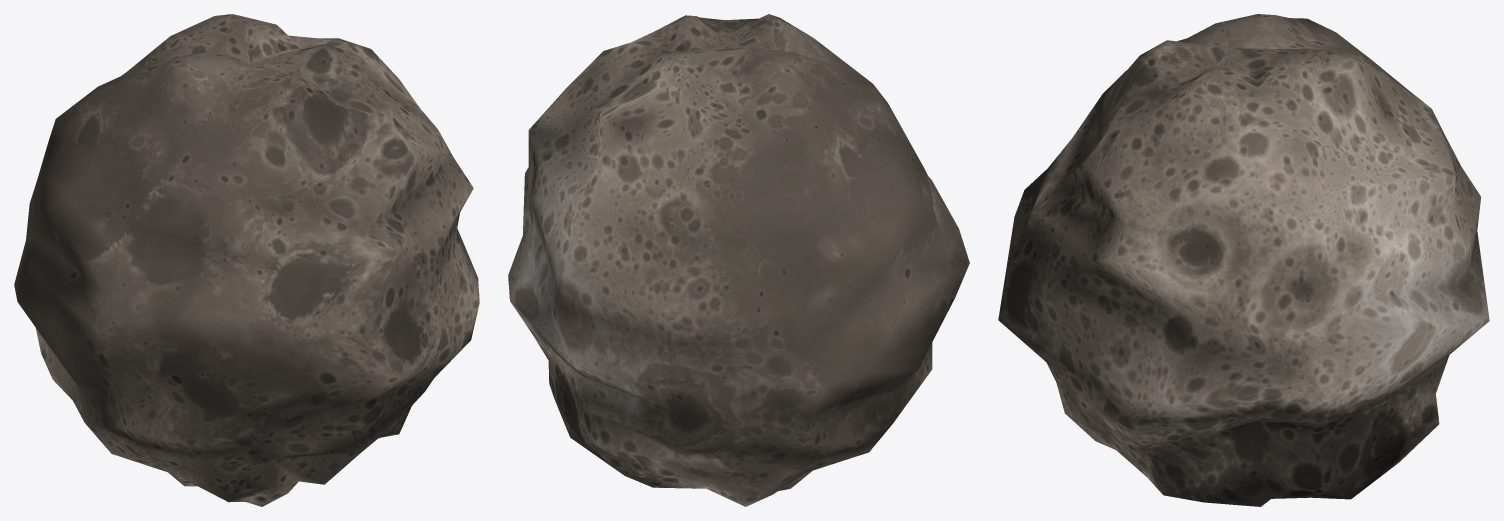
File: rock4.fbx
The picture shows the model from 3 angles, left to right: view 1: azimuth 30°, elevation 25°; view 2: azimuth 150°, elevation 25°; view 3: azimuth 270°, elevation 25°; orthographic projection. The views are drawn at different scales.
Parts seen in each view (by area): view 1: pSphere1; view 2: pSphere1; view 3: pSphere1.
Boxes of the visible parts, bbox=[...] form: pSphere1: bbox=[14, 14, 479, 506]; pSphere1: bbox=[508, 14, 969, 506]; pSphere1: bbox=[998, 14, 1489, 506].
Size of the model in its own units: 10.4 by 10.86 by 10.75.
